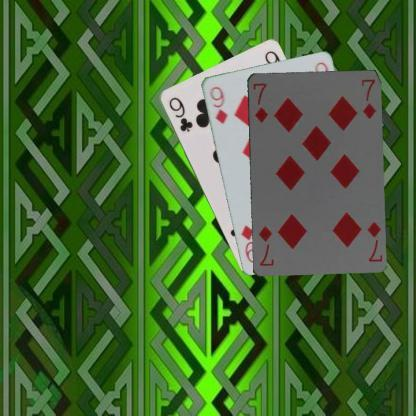7d: (250, 80, 268, 124), (364, 218, 382, 262)
9c: (166, 94, 194, 132)
9d: (206, 84, 228, 125)
